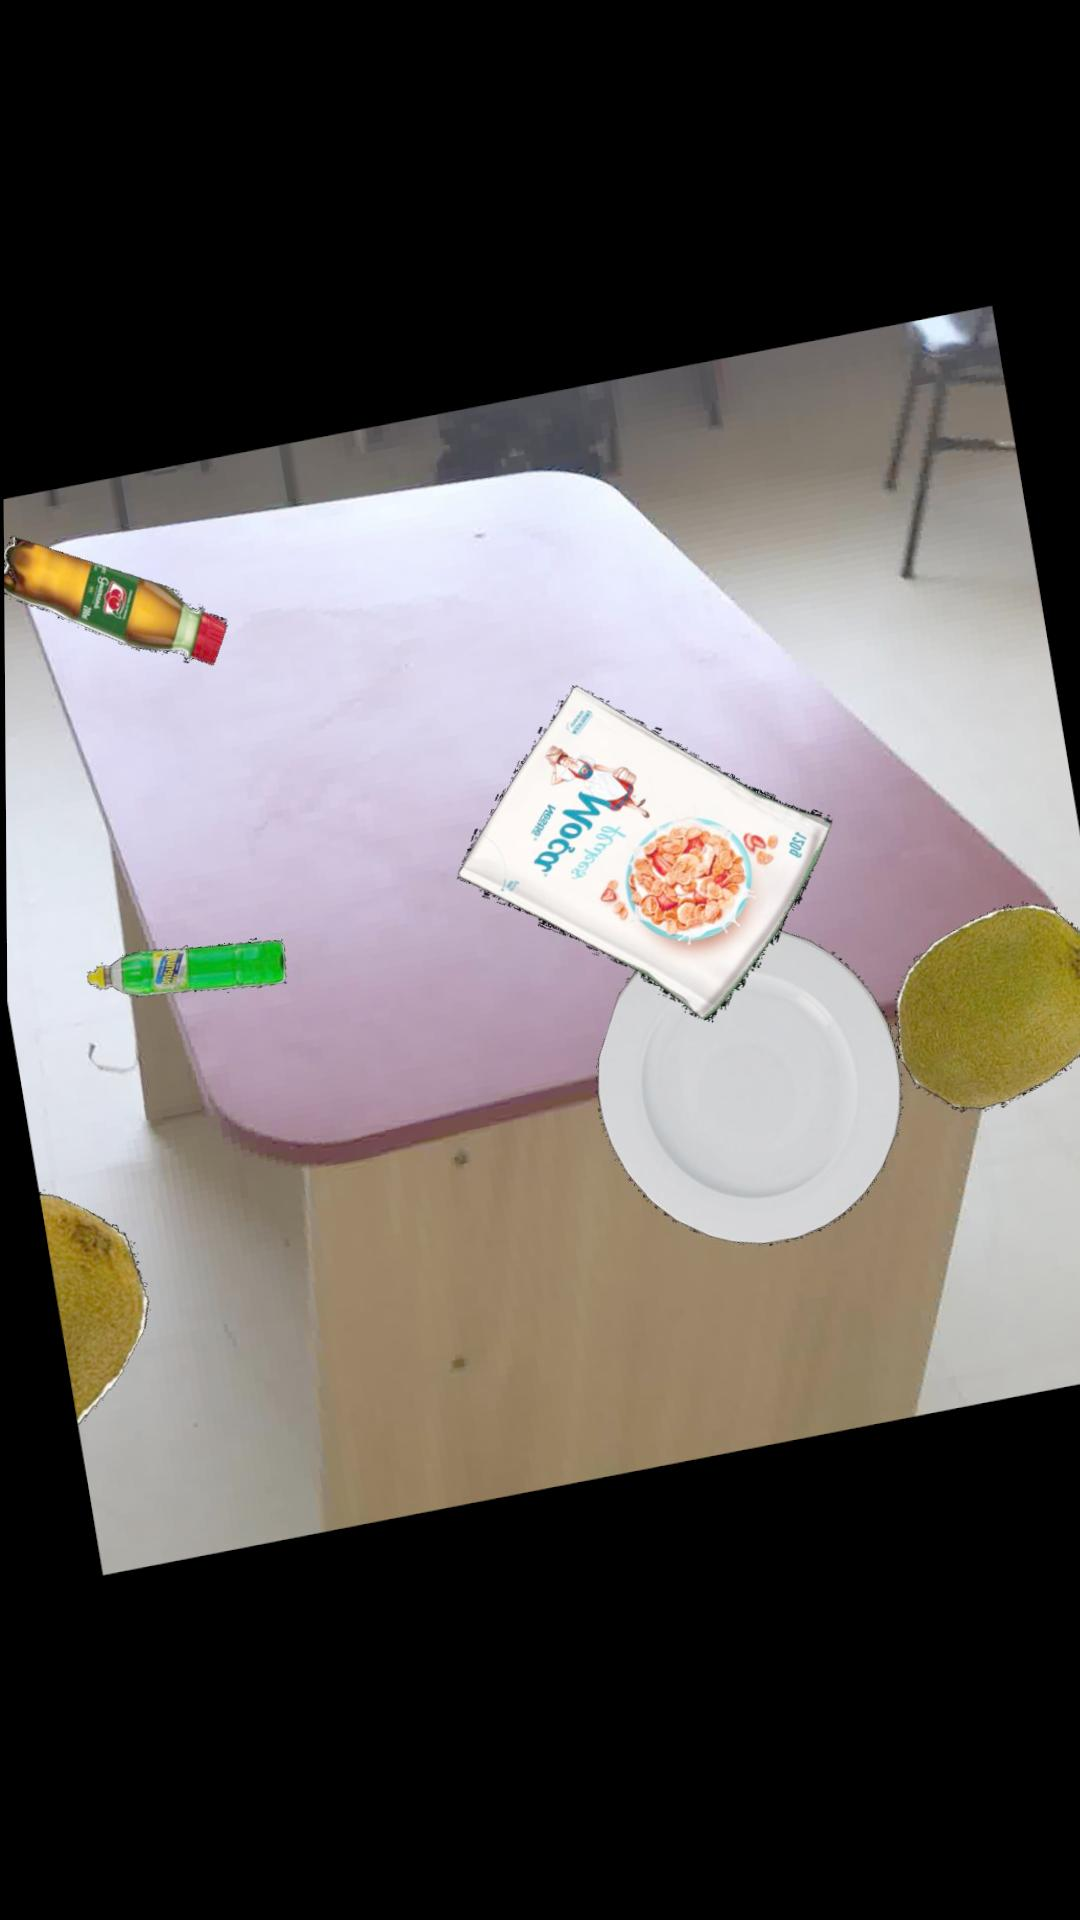cleaner: (83, 944, 282, 1000)
corn flakes: (452, 691, 828, 1030)
guarana: (3, 538, 224, 669)
kiwi: (890, 914, 1080, 1122), (38, 1195, 145, 1425)
plate: (593, 938, 898, 1251)
